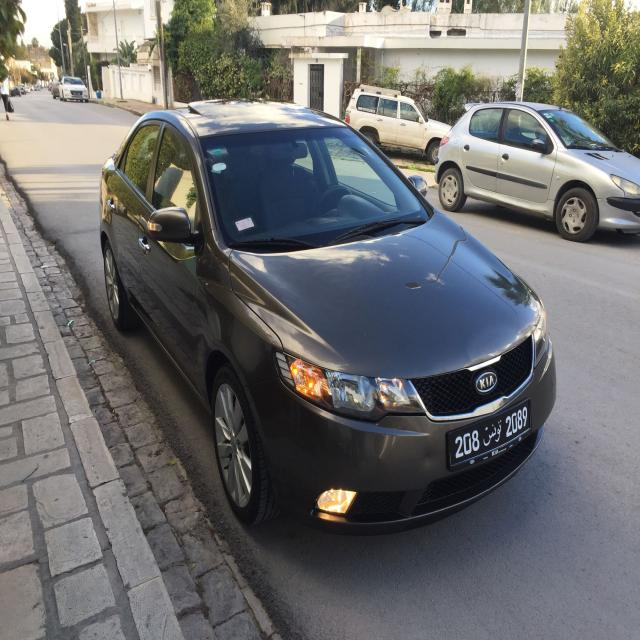LP: (452, 404, 530, 463)
